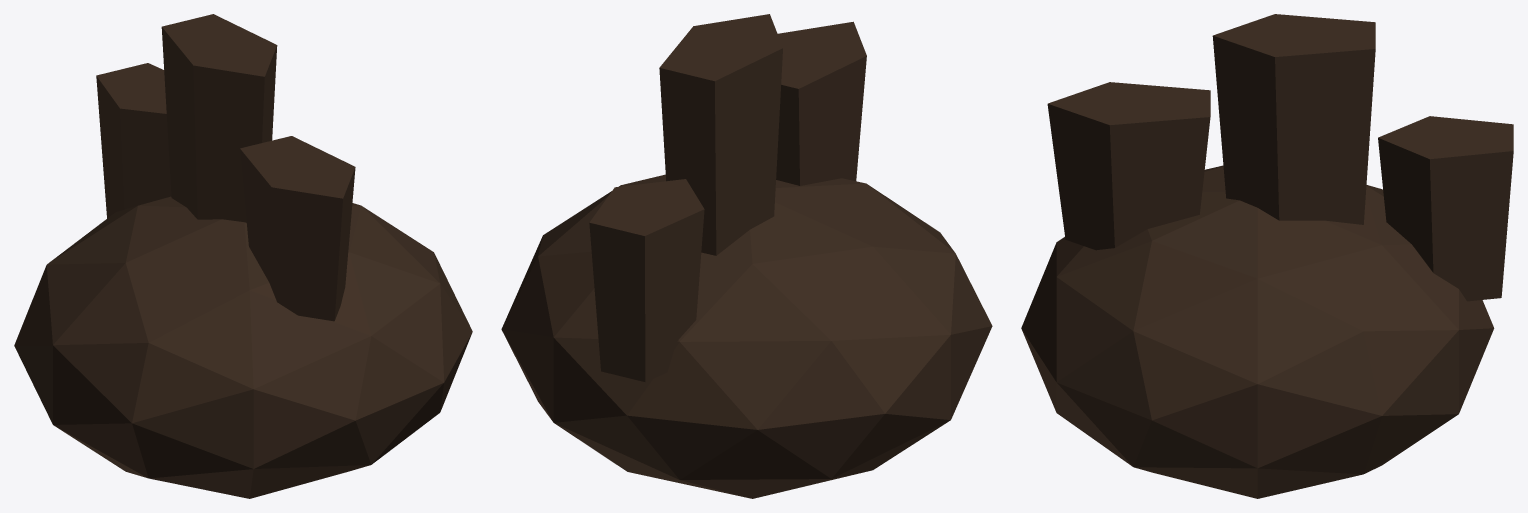
Rendered from hair.mohawk.glb.
3 views of the same model, side by side, from view 1: azimuth 30°, elevation 25°; view 2: azimuth 150°, elevation 25°; view 3: azimuth 270°, elevation 25° (orthographic). The views are drawn at different scales.
Visible parts, largest first — view 1: head@mohawk.team.hair; view 2: head@mohawk.team.hair; view 3: head@mohawk.team.hair.
Part boxes in pixels (x1,y1,x2,y2): head@mohawk.team.hair: (14, 14, 472, 498); head@mohawk.team.hair: (501, 14, 992, 498); head@mohawk.team.hair: (1021, 14, 1513, 498).
Bounding box in the file's own units: 0.3091 × 0.315 × 0.328.
